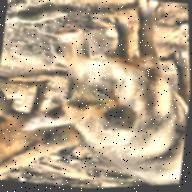boar: (35, 0, 192, 190)
